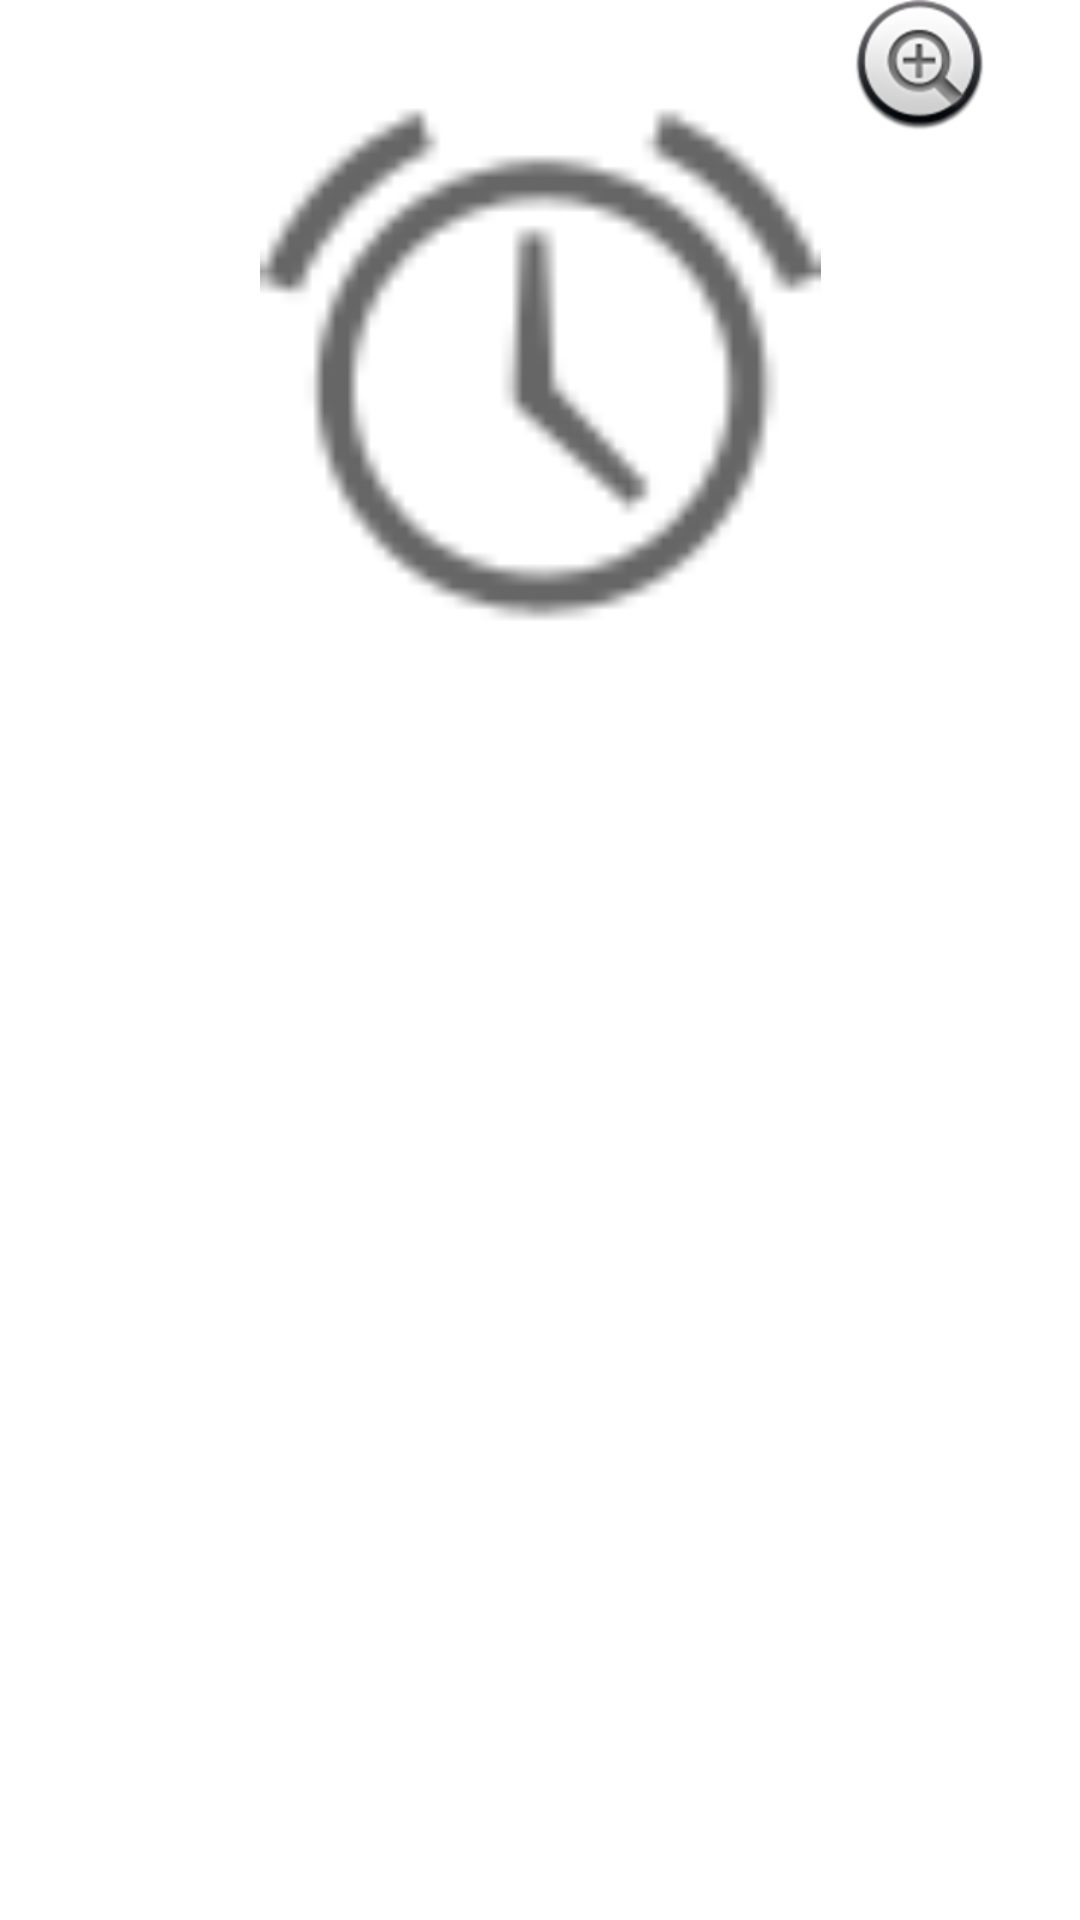

Screen size 1080w x 1920h. Icon name, then its center in pixels as [x,y]:
plus: [919,64]
